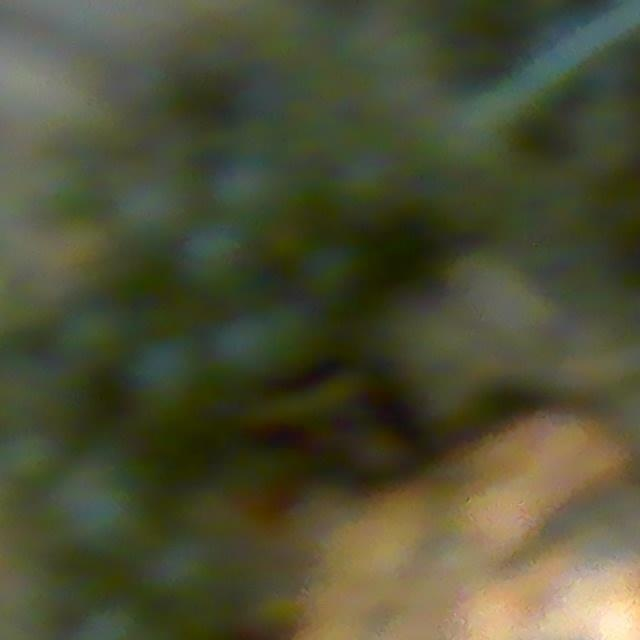SeaGrape: (48, 460, 146, 556), (209, 305, 300, 384), (110, 163, 192, 245), (125, 333, 203, 415), (178, 220, 256, 293), (144, 531, 218, 602), (55, 299, 127, 366), (346, 424, 415, 489), (0, 426, 59, 487)
